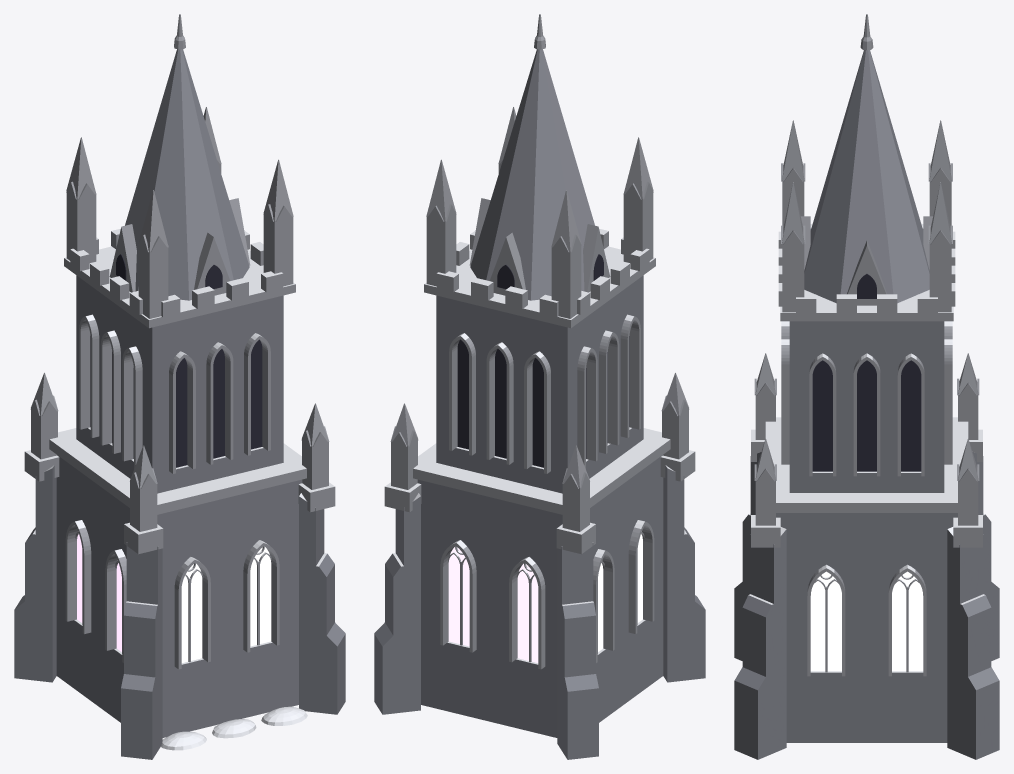
File: AR_TorreGotica.fbx
The picture shows the model from 3 angles, left to right: view 1: azimuth 30°, elevation 25°; view 2: azimuth 150°, elevation 25°; view 3: azimuth 270°, elevation 25°; orthographic projection. The views are drawn at different scales.
Parts seen in each view (by area): view 1: AR_TorreGotica; view 2: AR_TorreGotica; view 3: AR_TorreGotica.
Boxes of the visible parts, x1,y1,x2,y2 form: AR_TorreGotica: (14,14,345,759); AR_TorreGotica: (374,14,705,759); AR_TorreGotica: (734,14,999,759).
Size of the model in its own units: 14.38 by 41.35 by 14.38.
